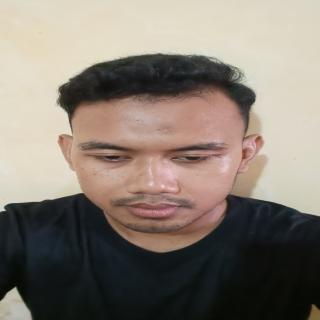Netral: (68, 86, 255, 239)
